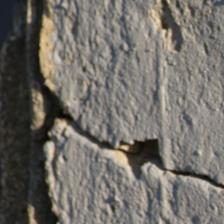Crack: (24, 45, 197, 145)
